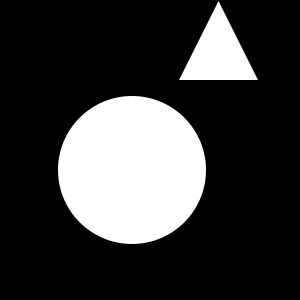rectangle: (58, 96, 206, 244)
triangle: (179, 1, 258, 80)
